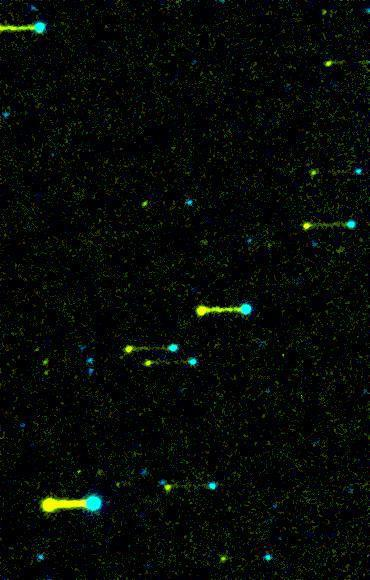star: (329, 229, 359, 259)
